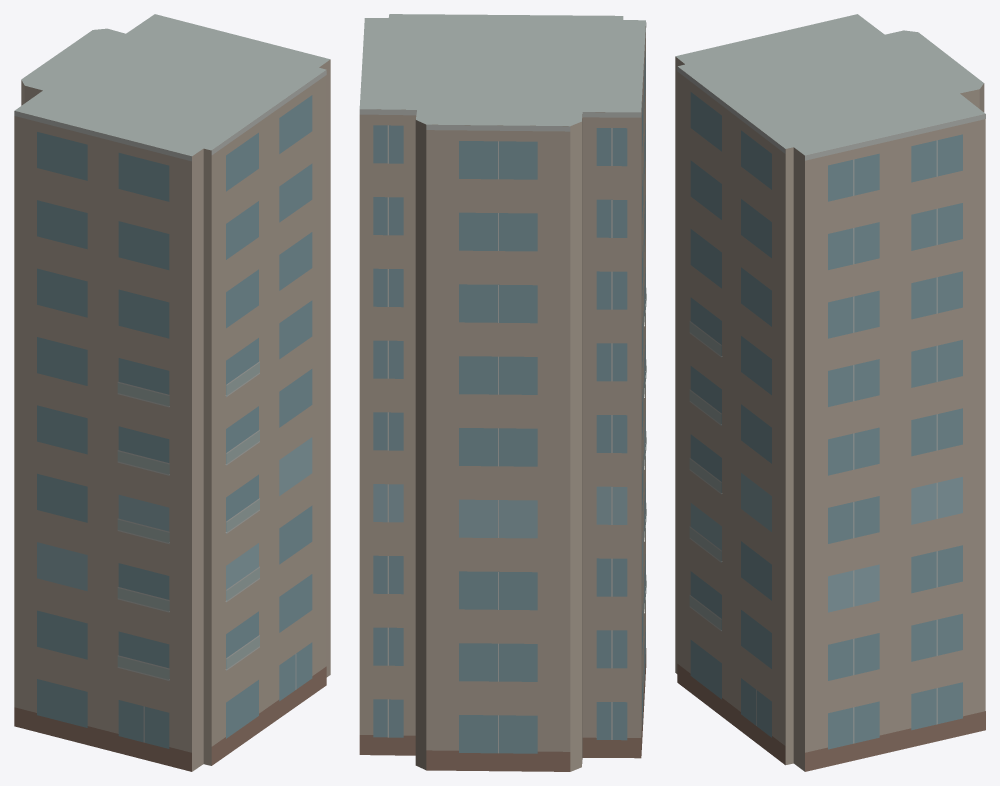
The model's file is survey-upis-32917461.glb.
The picture shows the model from 3 angles, left to right: view 1: azimuth 30°, elevation 25°; view 2: azimuth 150°, elevation 25°; view 3: azimuth 270°, elevation 25°; orthographic projection. The views are drawn at different scales.
Visible parts, largest first — view 1: survey-upis-32917461.tmp; view 2: survey-upis-32917461.tmp; view 3: survey-upis-32917461.tmp.
Part boxes in pixels (x1,y1,x2,y2): survey-upis-32917461.tmp: (14,14,330,771); survey-upis-32917461.tmp: (359,14,646,771); survey-upis-32917461.tmp: (675,14,985,771).
Bounding box in the file's own units: 14.4 × 29.2 × 13.35.
